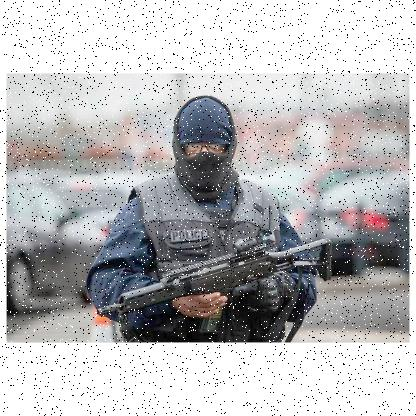gun: (93, 233, 331, 337)
